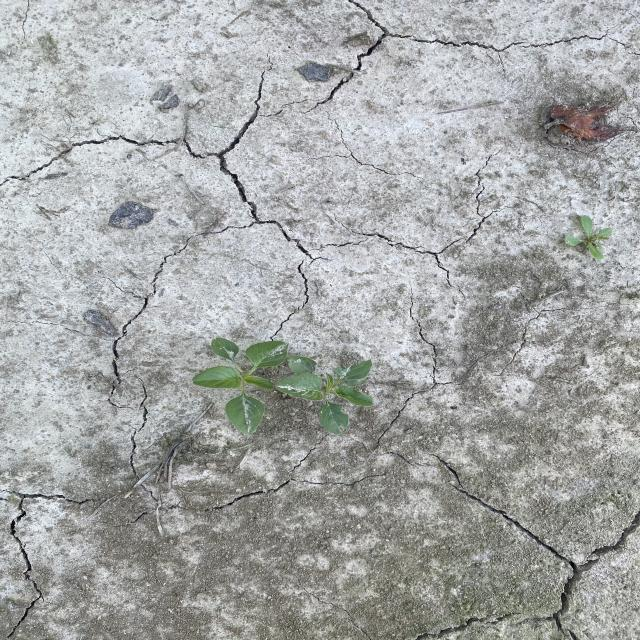Carpetweed: (561, 213, 617, 261)
PalmerAmaranth: (190, 336, 379, 437)
